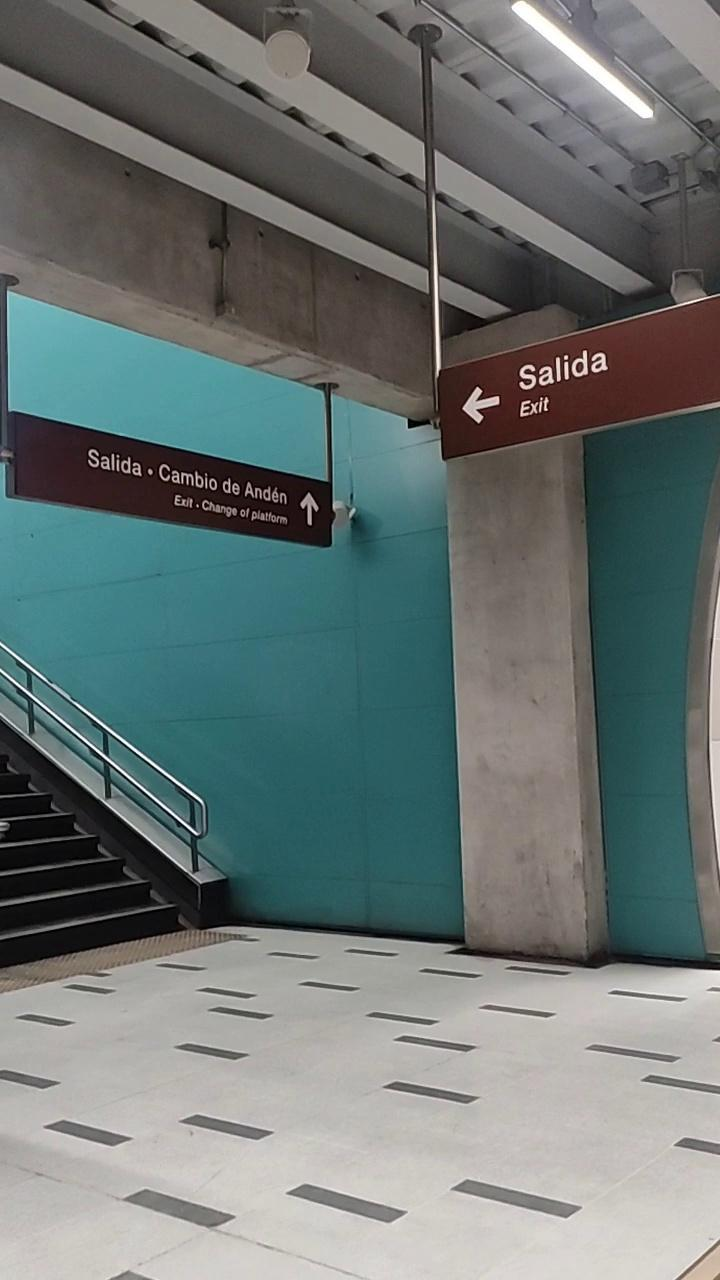right arrow: (449, 379, 516, 433)
up arrow: (287, 482, 326, 540)
